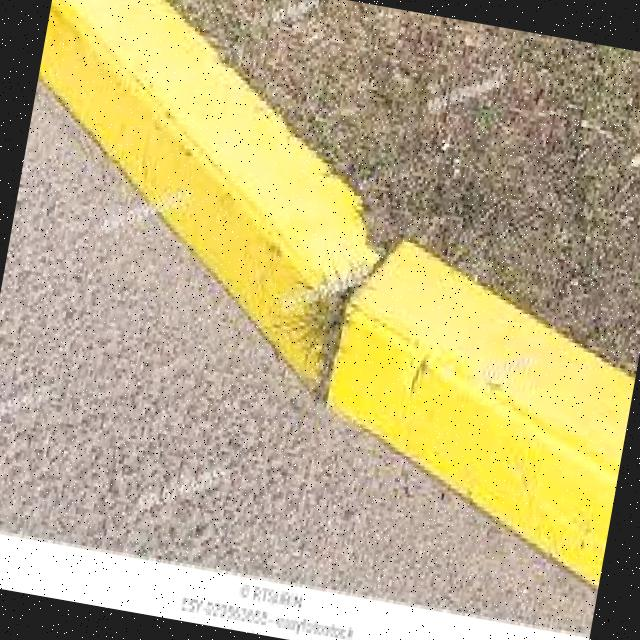curb: (1, 1, 640, 586)
